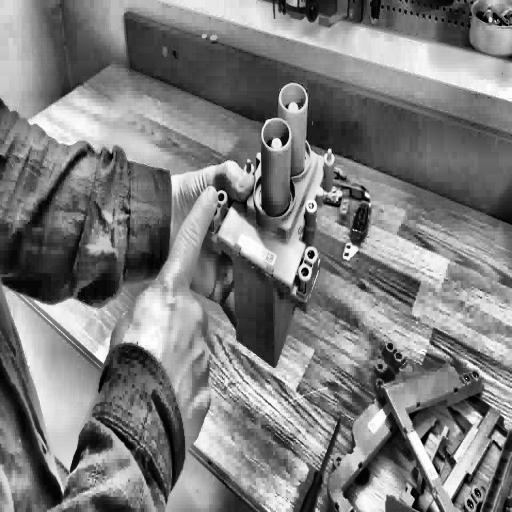connector: (202, 63, 339, 368)
